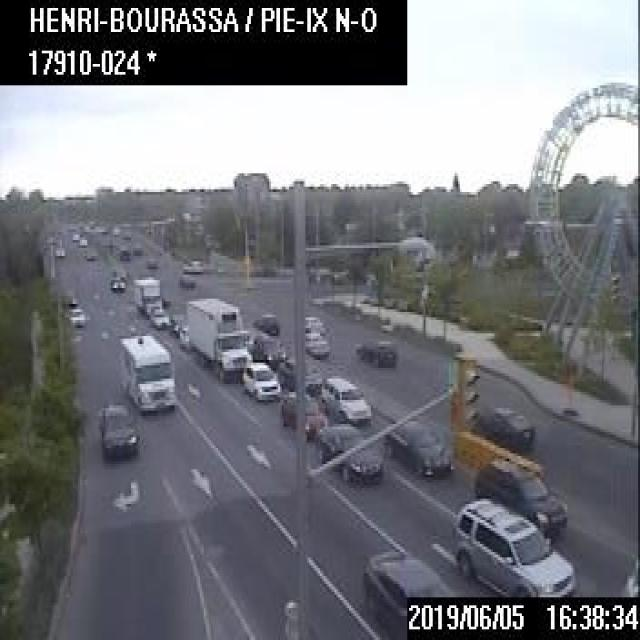vehicle: (447, 498, 573, 594), (360, 547, 462, 637), (473, 459, 567, 535), (186, 295, 250, 382), (117, 333, 173, 411), (316, 422, 382, 481), (383, 418, 449, 476), (478, 402, 533, 450), (278, 389, 326, 437), (97, 402, 137, 458), (242, 360, 280, 400), (279, 356, 321, 392), (354, 333, 394, 368), (248, 330, 284, 366), (132, 274, 160, 314), (303, 330, 329, 357), (254, 311, 278, 334), (68, 307, 86, 328), (150, 306, 168, 326), (304, 314, 324, 332), (169, 312, 184, 333), (178, 323, 189, 346), (109, 275, 124, 289), (178, 273, 194, 286), (144, 254, 157, 266), (53, 243, 64, 256), (117, 246, 129, 257), (132, 242, 142, 252), (76, 236, 86, 245), (71, 230, 78, 239)
